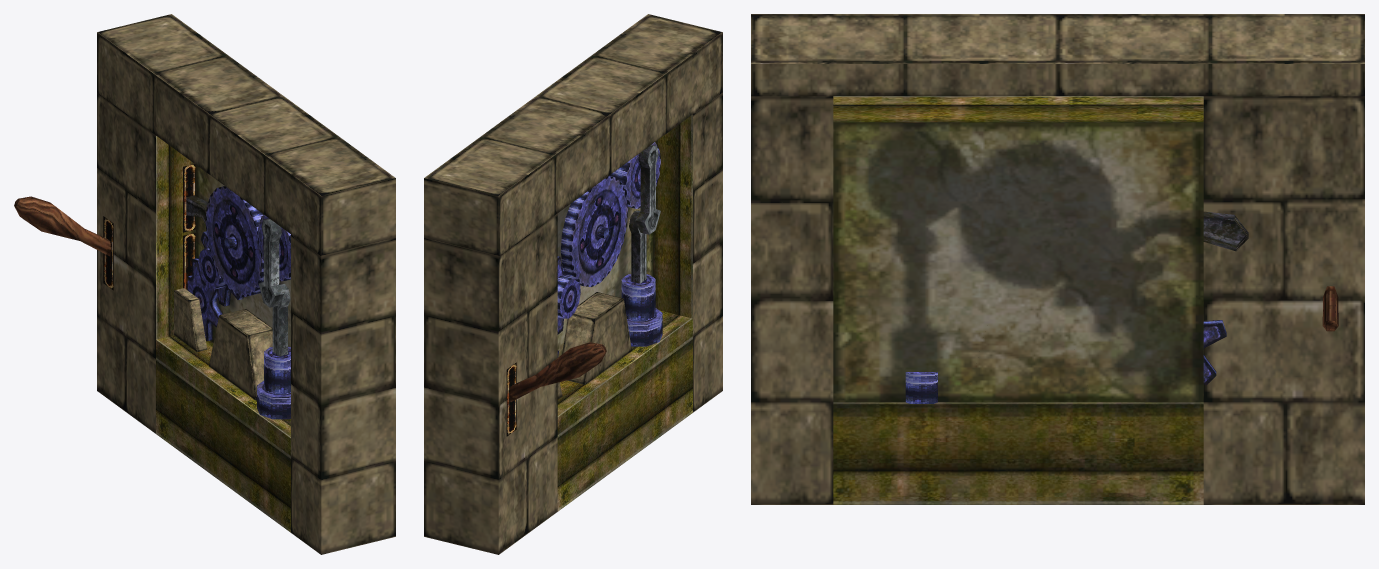
The model's file is INST_PUZZLE_BIND.fbx.
3 views of the same model, side by side, from view 1: azimuth 30°, elevation 25°; view 2: azimuth 150°, elevation 25°; view 3: azimuth 270°, elevation 25° (orthographic). The views are drawn at different scales.
Parts seen in each view (by area): view 1: INST_PUZZLE_BIND; view 2: INST_PUZZLE_BIND; view 3: INST_PUZZLE_BIND.
Boxes of the visible parts, x1,y1,x2,y2 form: INST_PUZZLE_BIND: (14,14,395,554); INST_PUZZLE_BIND: (424,14,722,554); INST_PUZZLE_BIND: (751,14,1364,504).
Size of the model in its own units: 7983 by 16151 by 18302.
Materials: 26 (26 with a texture image).
